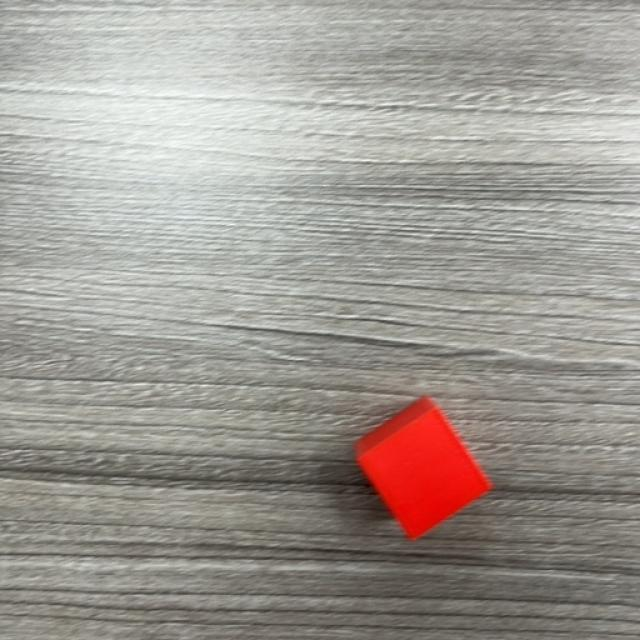Rojo: (354, 398, 494, 542)
